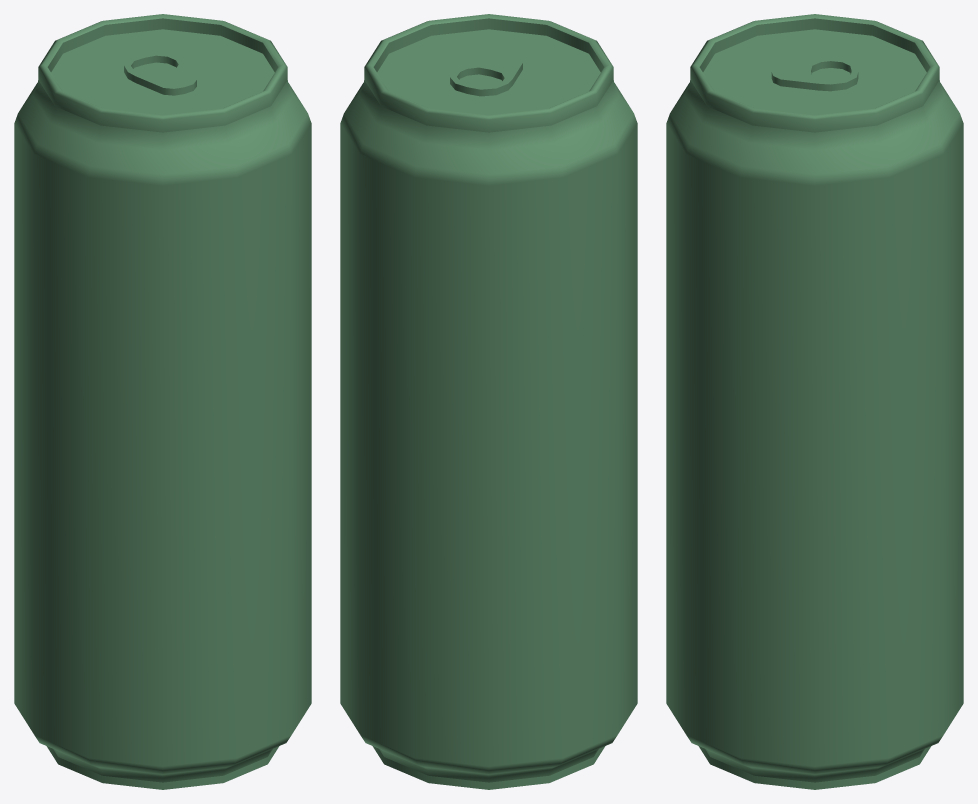
File: Energy_Drink.fbx
3 renders of one model, left to right at view 1: azimuth 30°, elevation 25°; view 2: azimuth 150°, elevation 25°; view 3: azimuth 270°, elevation 25°, orthographic.
Parts seen in each view (by area): view 1: ed_01, ed_02; view 2: ed_01, ed_02; view 3: ed_01, ed_02.
Boxes of the visible parts, x1,y1,x2,y2 form: ed_01: (14,14,311,789); ed_02: (124,53,196,95); ed_01: (340,14,637,789); ed_02: (450,53,522,96); ed_01: (666,14,963,789); ed_02: (771,58,858,91).
Bounding box in the file's own units: 9.88 × 24.73 × 9.88.
